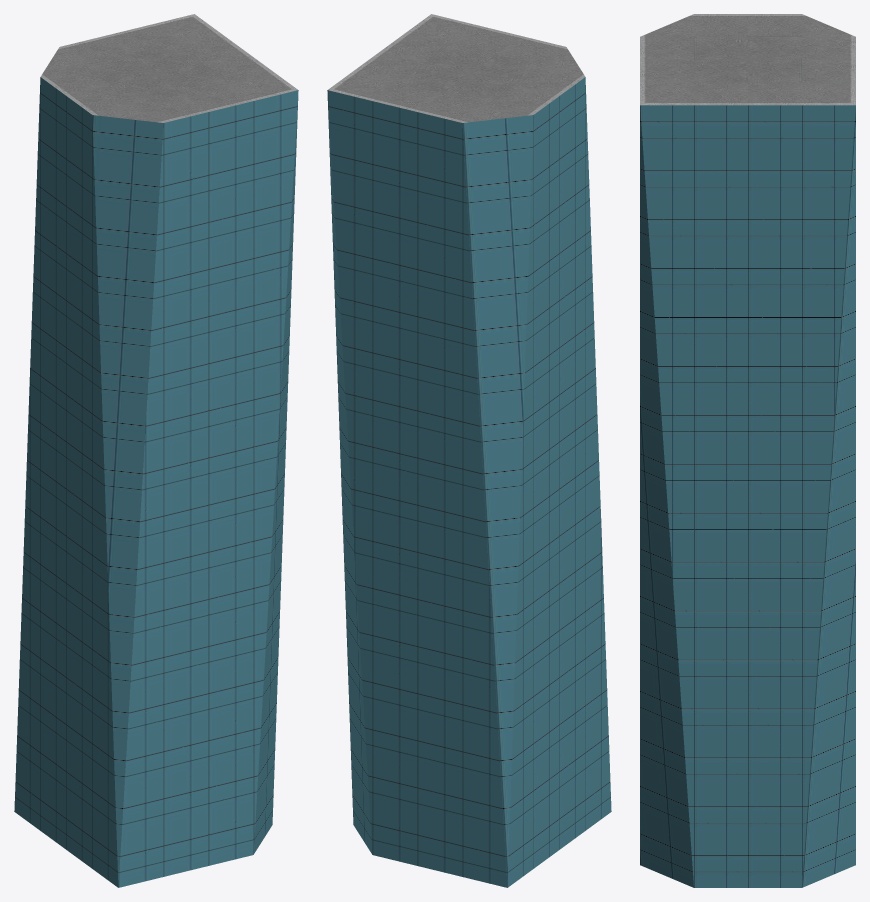
File: predio.fbx
3 views of the same model, side by side, from view 1: azimuth 30°, elevation 25°; view 2: azimuth 150°, elevation 25°; view 3: azimuth 270°, elevation 25° (orthographic). The views are drawn at different scales.
Parts seen in each view (by area): view 1: prédio; view 2: prédio; view 3: prédio.
Part boxes in pixels (x1,y1,x2,y2): prédio: (14, 14, 298, 887); prédio: (327, 14, 611, 887); prédio: (640, 14, 855, 887).
Bounding box in the file's own units: 93 × 372 × 93.
Materials: 1 (1 with a texture image).
